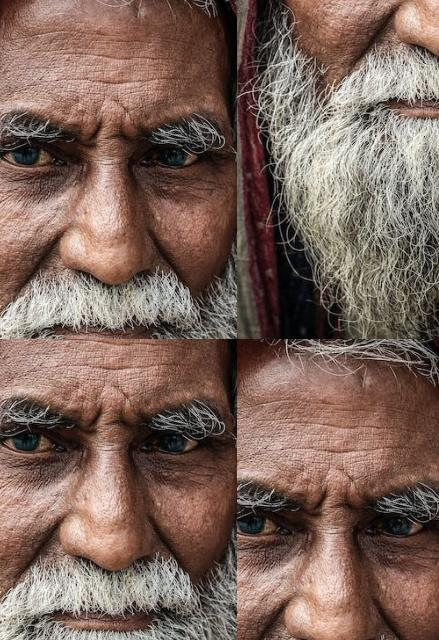bunny_line: (52, 142, 120, 180), (118, 130, 150, 160), (157, 130, 175, 167)
chin: (36, 288, 75, 339), (150, 303, 179, 339)
crows_feet: (12, 75, 50, 133)
forehead: (61, 28, 147, 54), (316, 416, 382, 436), (316, 440, 368, 462), (198, 47, 226, 75)
frown_line: (148, 52, 188, 110), (304, 481, 336, 517), (336, 485, 358, 519)
gummy_smile: (340, 4, 376, 62), (244, 597, 282, 640), (375, 600, 408, 640), (188, 217, 209, 255), (61, 194, 89, 222)
masseter: (4, 178, 36, 238), (224, 205, 237, 261)
